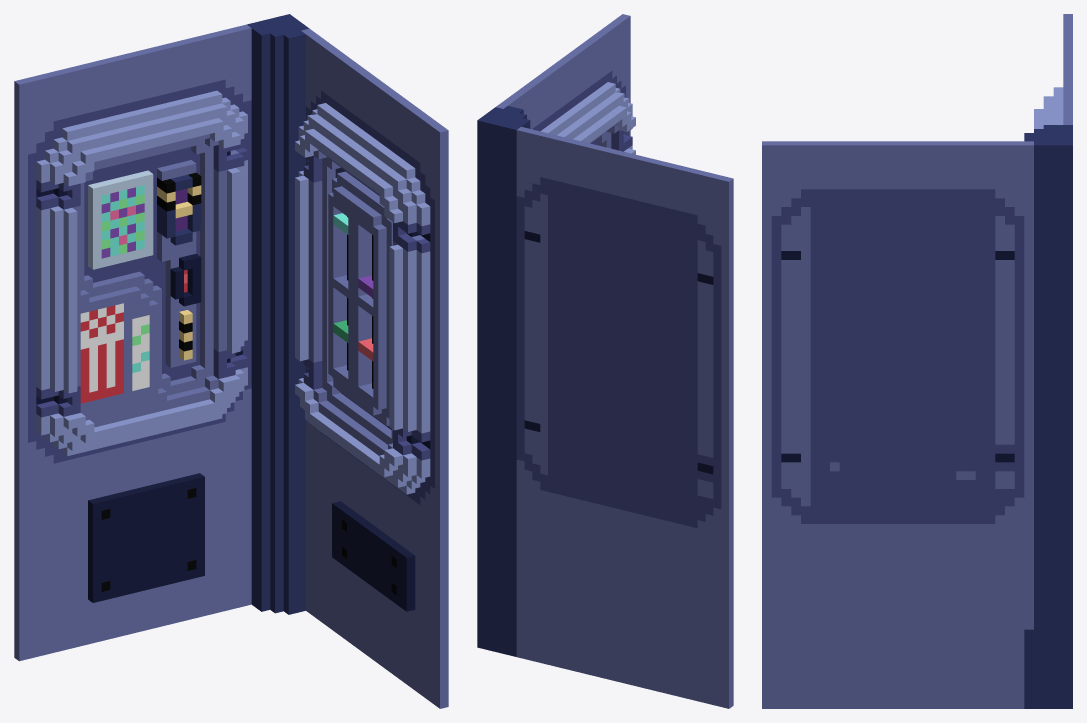
File: esquina pared.obj
3 renders of one model, left to right at view 1: azimuth 30°, elevation 25°; view 2: azimuth 150°, elevation 25°; view 3: azimuth 270°, elevation 25°, orthographic. The views are drawn at different scales.
Bounding box in the file's own units: 3.2 × 6.4 × 3.2.
Materials: 1 (1 with a texture image).
